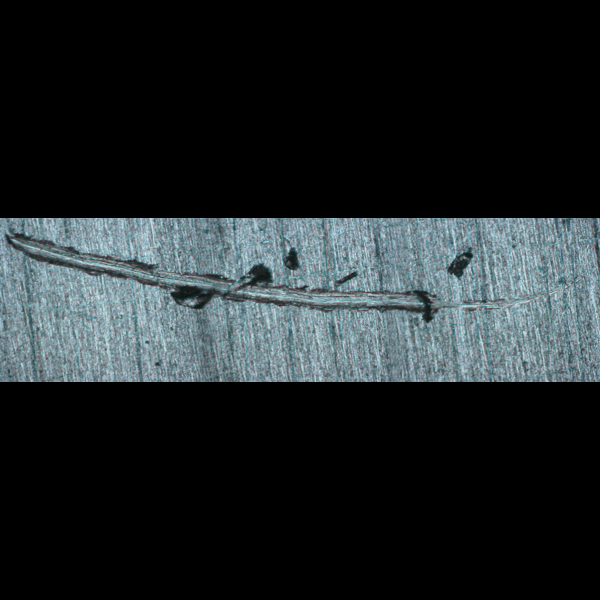d: (3, 227, 584, 326)
